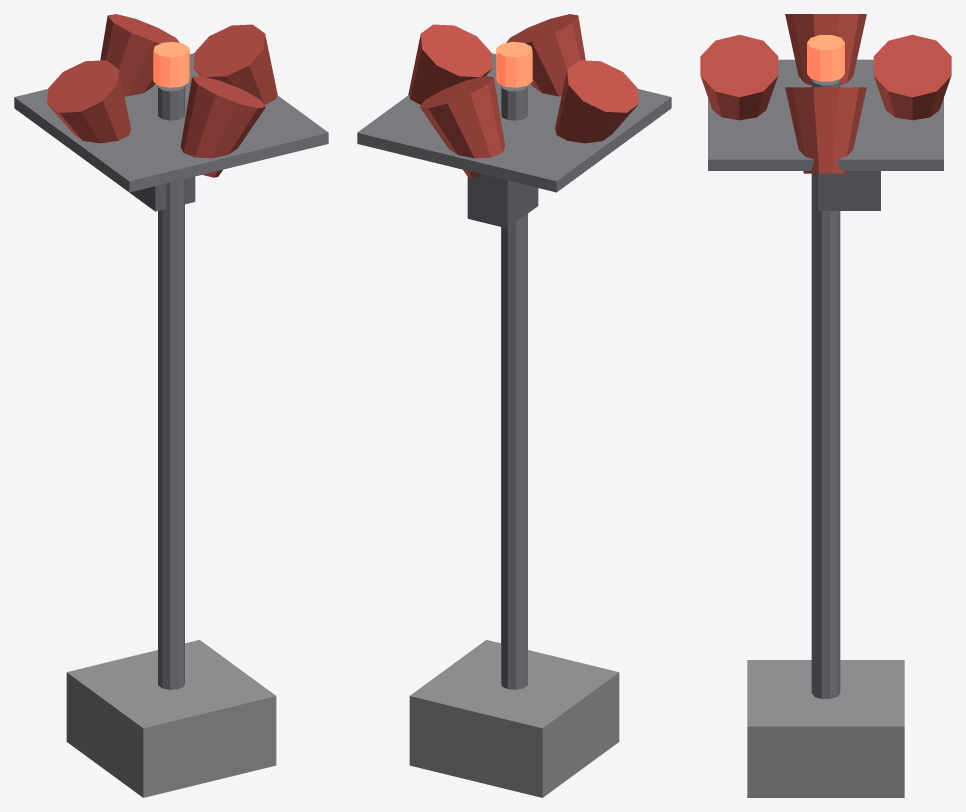
Rendered from siren_tower.glb.
3 views of the same model, side by side, from view 1: azimuth 30°, elevation 25°; view 2: azimuth 150°, elevation 25°; view 3: azimuth 270°, elevation 25° (orthographic). The views are drawn at different scales.
Visible parts, largest first — view 1: Event_SirenTower; view 2: Event_SirenTower; view 3: Event_SirenTower.
Boxes of the visible parts, <box> form: Event_SirenTower: <box>14,14,328,797</box>; Event_SirenTower: <box>357,14,671,797</box>; Event_SirenTower: <box>700,14,951,797</box>.
Bounding box in the file's own units: 1.68 × 5.06 × 1.59.
